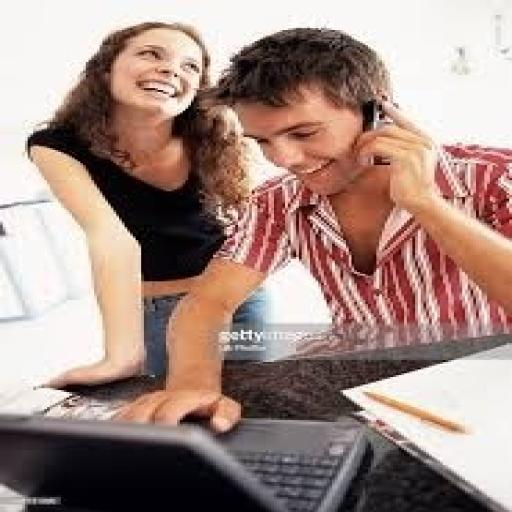calling: (108, 24, 509, 435), (22, 19, 285, 392)
